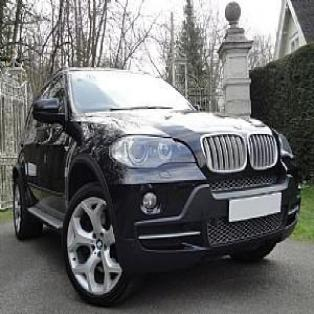Auto: (9, 66, 304, 304)
